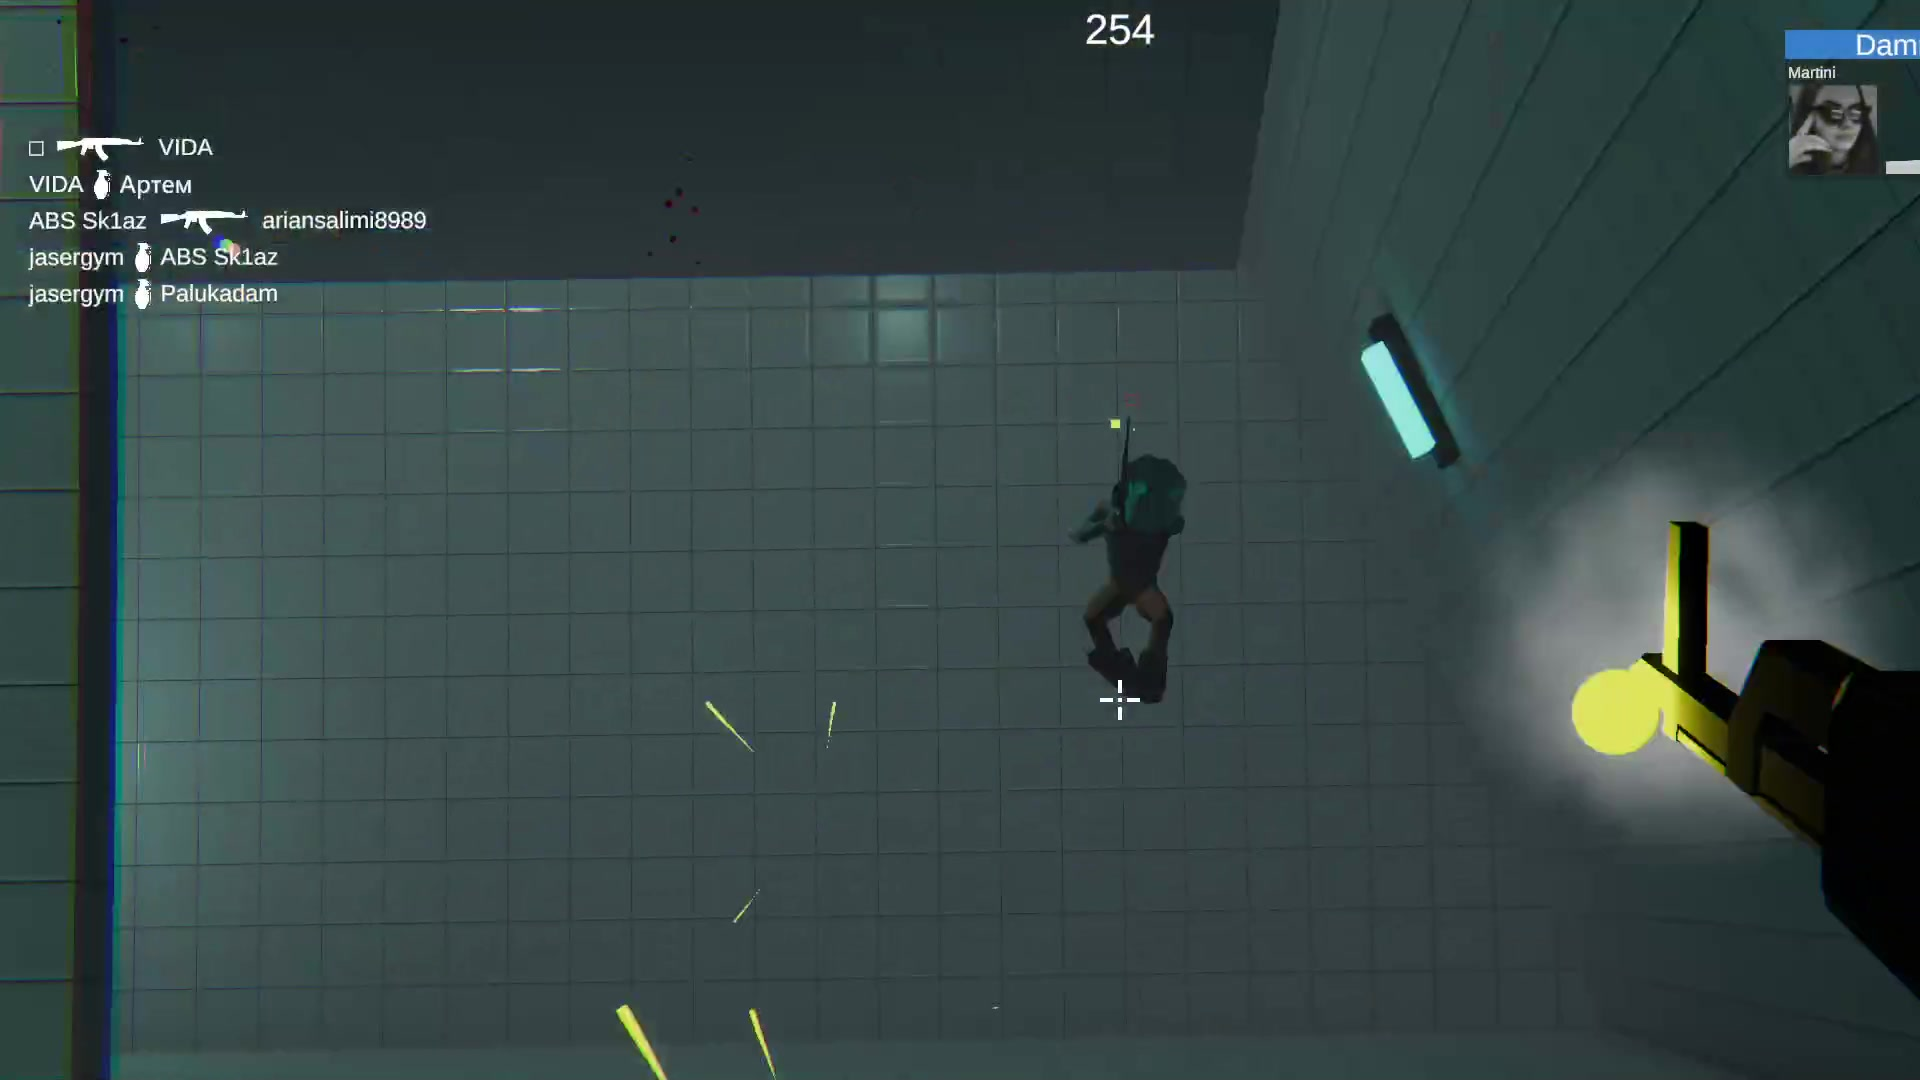human: (1093, 456, 1181, 695)
